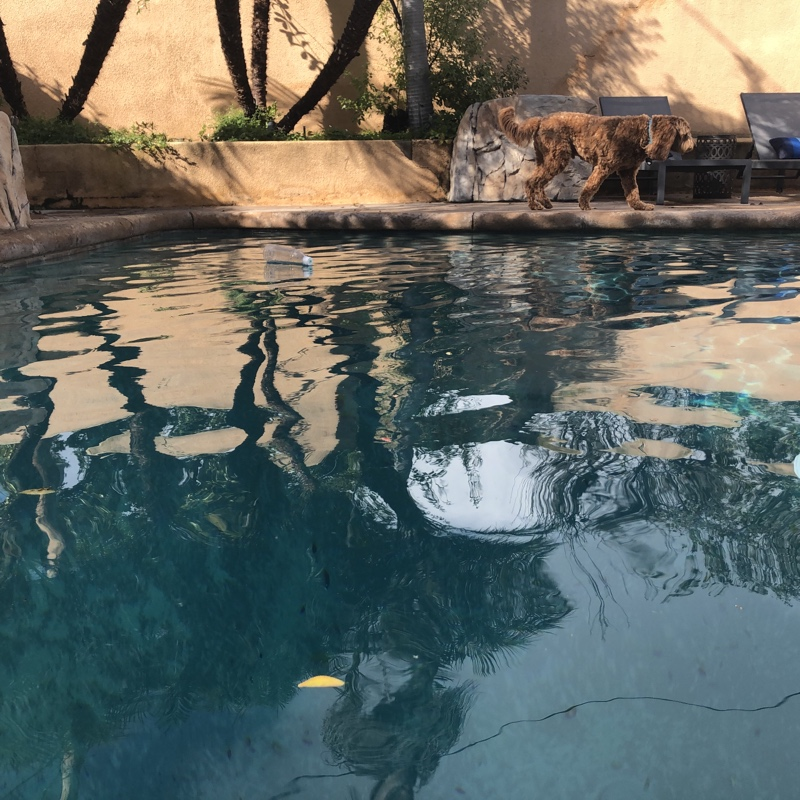Plastic Bottle: (259, 241, 313, 269)
